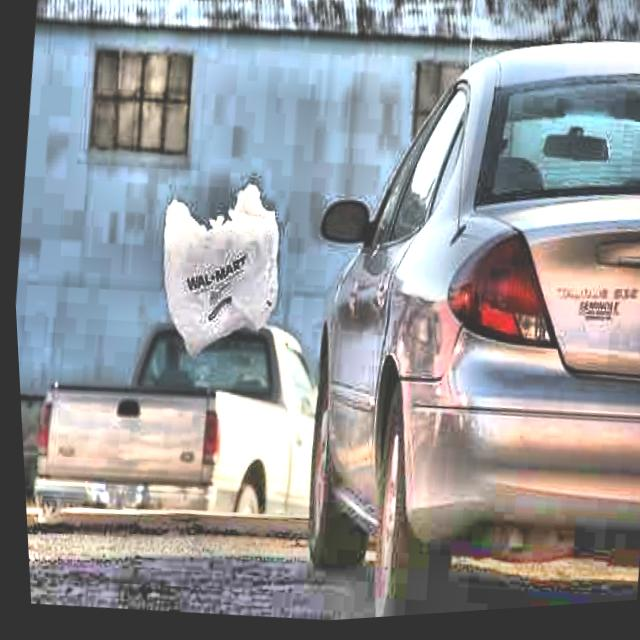Plastic: (139, 165, 296, 371)
